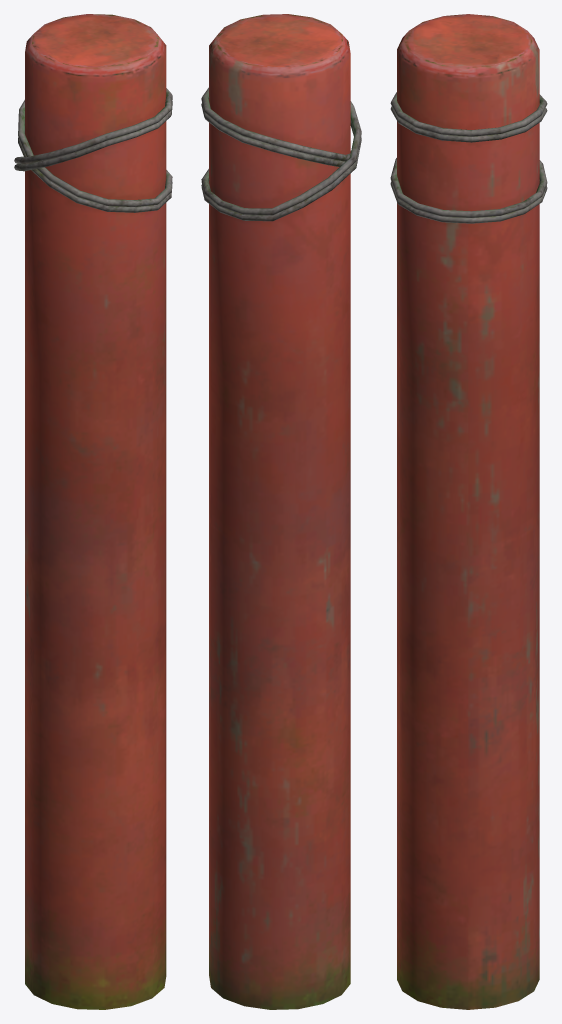
File: Pillar3.fbx
3 views of the same model, side by side, from view 1: azimuth 30°, elevation 25°; view 2: azimuth 150°, elevation 25°; view 3: azimuth 270°, elevation 25° (orthographic).
Parts seen in each view (by area): view 1: SM_a_001_Pillar_03a; view 2: SM_a_001_Pillar_03a; view 3: SM_a_001_Pillar_03a.
Boxes of the visible parts, left/top/right/bottom form: SM_a_001_Pillar_03a: left=14, top=14, right=172, bottom=1009; SM_a_001_Pillar_03a: left=201, top=14, right=361, bottom=1009; SM_a_001_Pillar_03a: left=390, top=14, right=547, bottom=1009.
Size of the model in its own units: 72 by 450 by 68.22.
